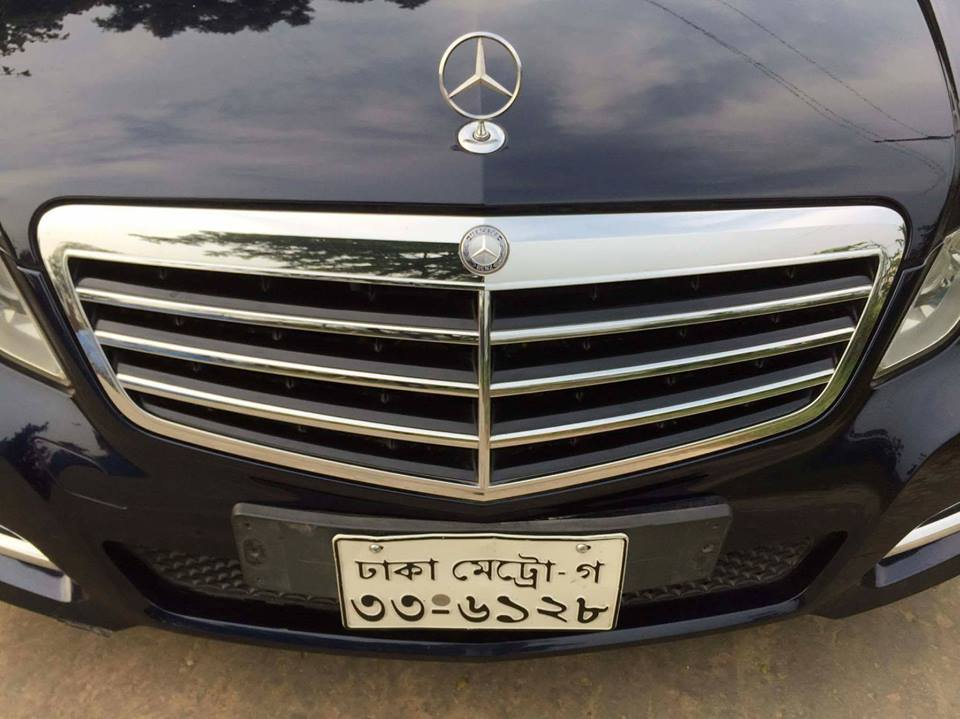registration_plate: (331, 531, 629, 635)
